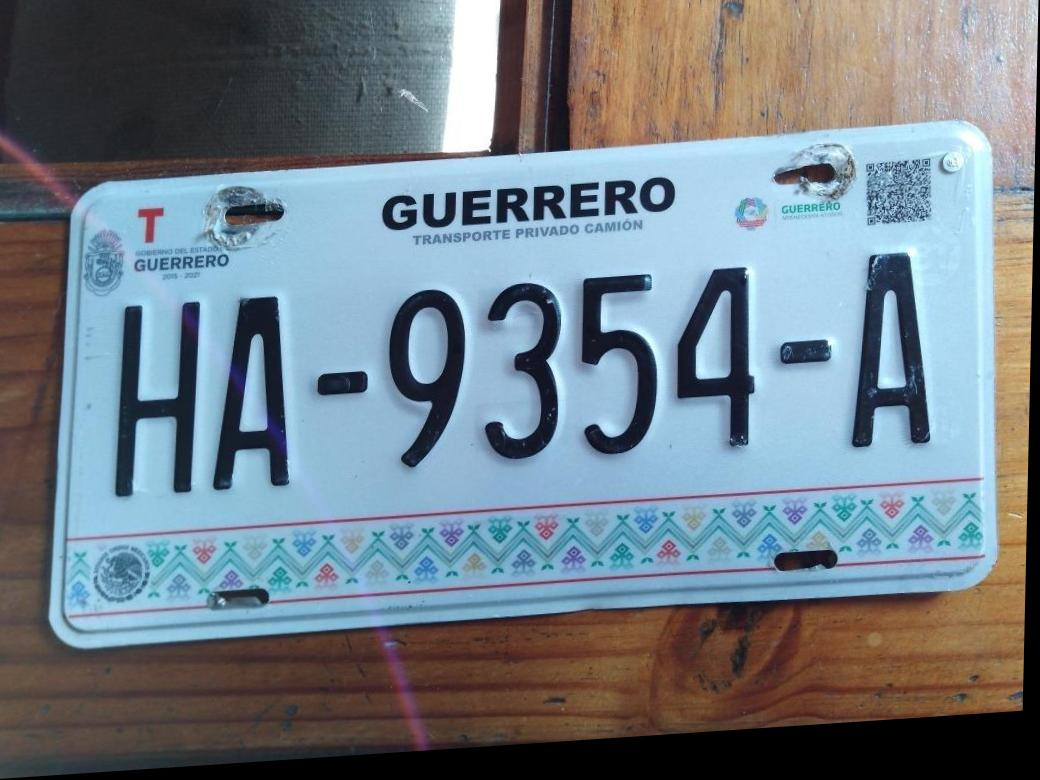License_Plate: (32, 100, 1015, 667)
